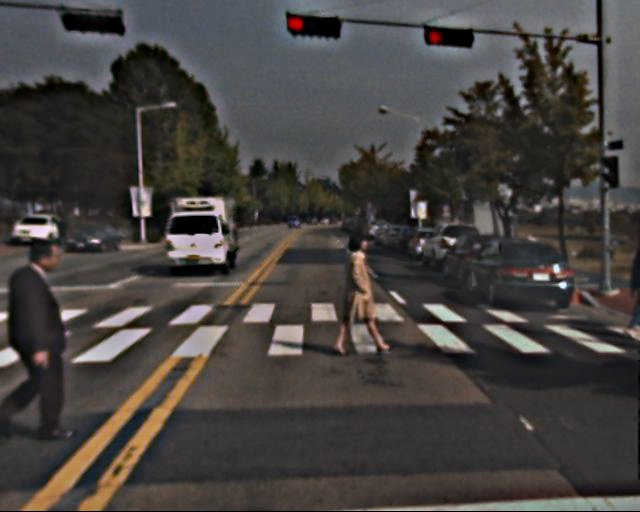person: (327, 231, 385, 360)
